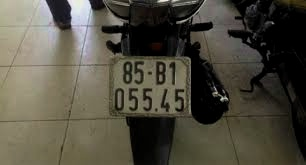Bien-so: (102, 48, 196, 121)
